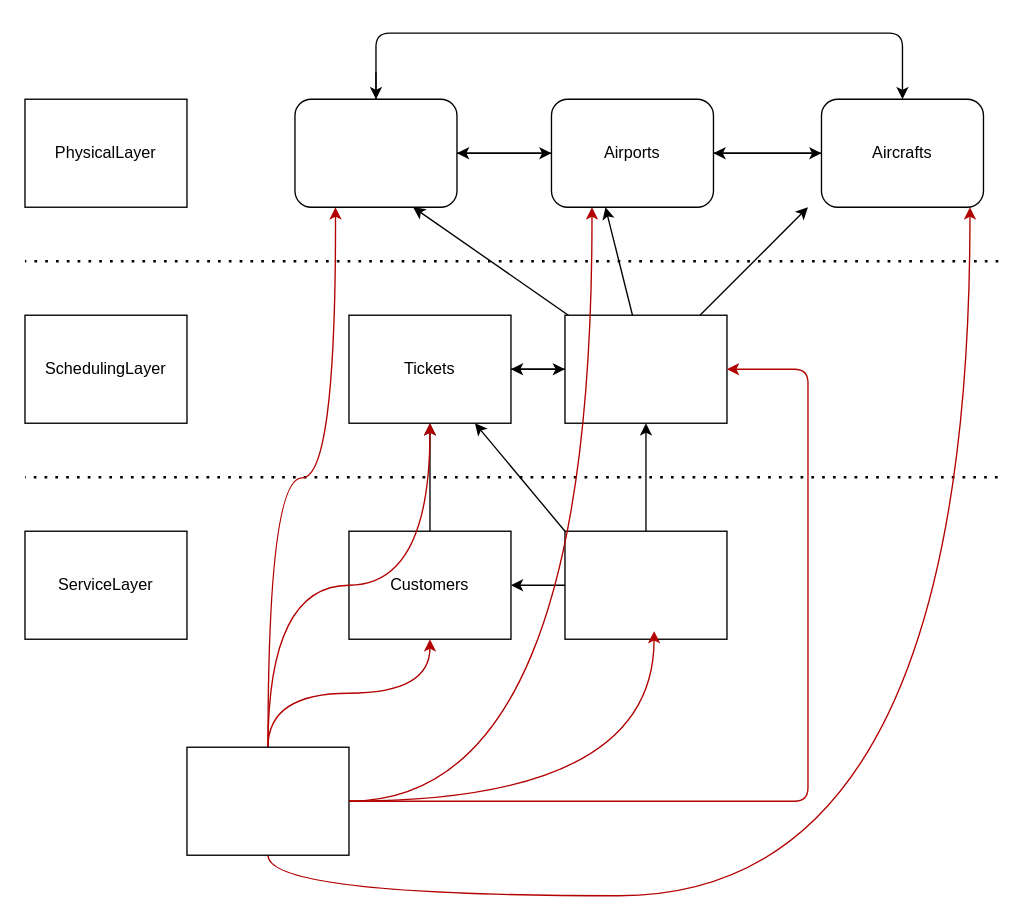
Some shapes in this 1023 by 919 pixel diagram are drawn without their labels. The centre of each missing label's shape, as x and y in pixels:
"Admin" goes at (x=267, y=800).
"Airlines" goes at (x=375, y=152).
"Employees" goes at (x=645, y=584).
"Flights" goes at (x=645, y=368).
